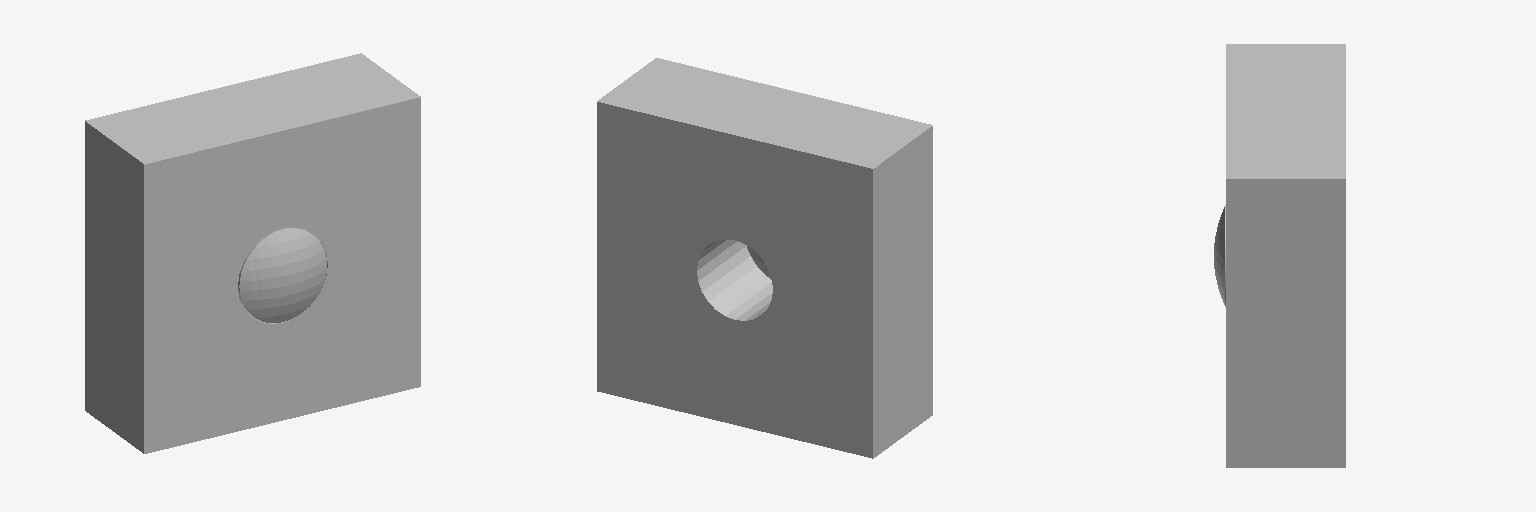
File: Experimental XY stage moving piece with hole for LB1092 v2.obj
3 renders of one model, left to right at view 1: azimuth 30°, elevation 25°; view 2: azimuth 150°, elevation 25°; view 3: azimuth 270°, elevation 25°, orthographic.
Visible parts, largest first — view 1: Body2, Body1; view 2: Body2; view 3: Body2, Body1.
Part boxes in pixels (x1,y1,x2,y2): Body2: (85,53,420,453); Body1: (238,227,326,322); Body2: (597,58,932,458); Body2: (1226,44,1345,467); Body1: (1214,205,1225,306).
Size of the model in its own units: 4 by 4 by 1.65.